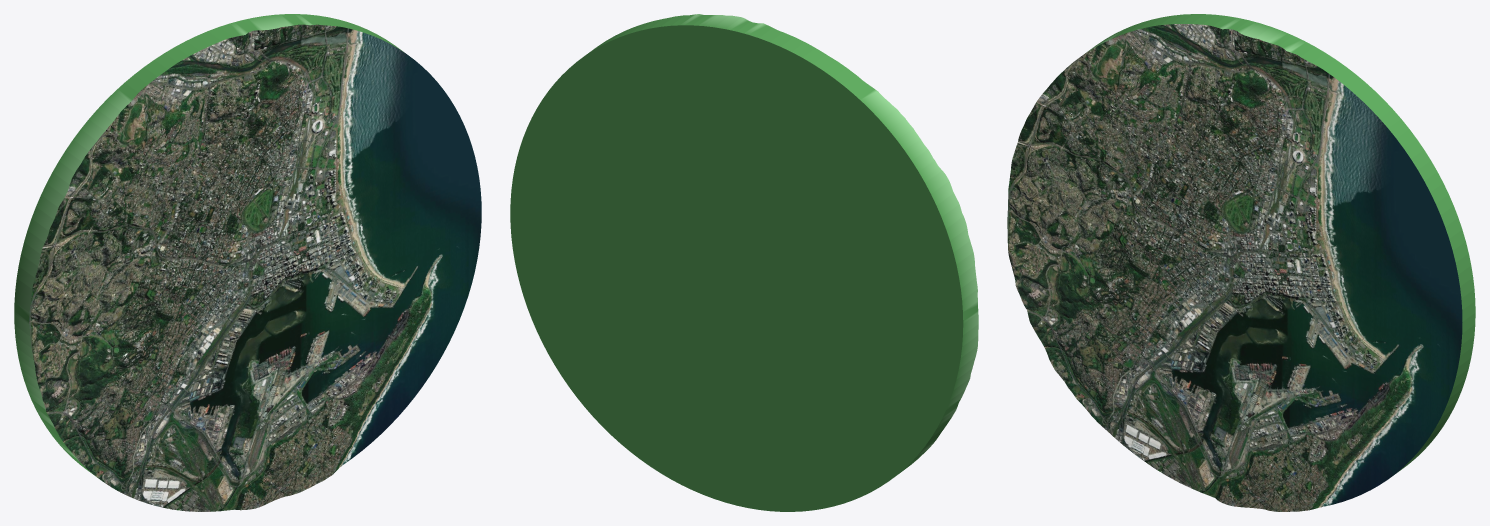
The model's file is durban.glb.
3 views of the same model, side by side, from view 1: azimuth 30°, elevation 25°; view 2: azimuth 150°, elevation 25°; view 3: azimuth 330°, elevation 25° (orthographic).
Size of the model in its own units: 200 by 200 by 14.89.
Materials: 2 (1 with a texture image).
